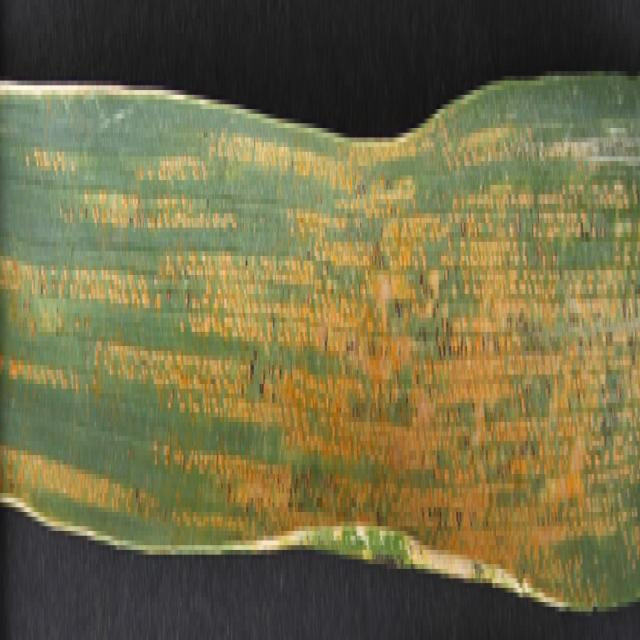leaf rust: (1, 104, 638, 588)
